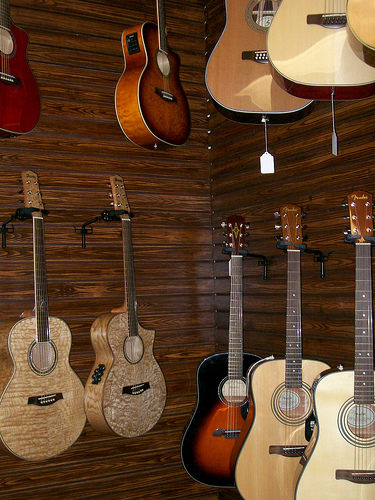guitar: (230, 206, 332, 500), (1, 168, 89, 464), (295, 193, 375, 500), (178, 213, 262, 493), (85, 171, 169, 439), (202, 1, 307, 124), (111, 1, 193, 153), (263, 1, 373, 99)
